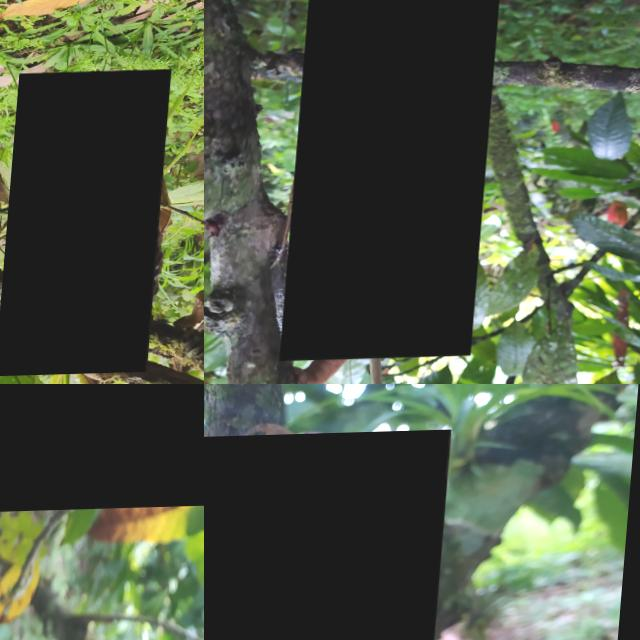Monilia: (288, 0, 501, 362), (2, 72, 173, 378), (204, 432, 453, 640), (0, 384, 204, 516)
